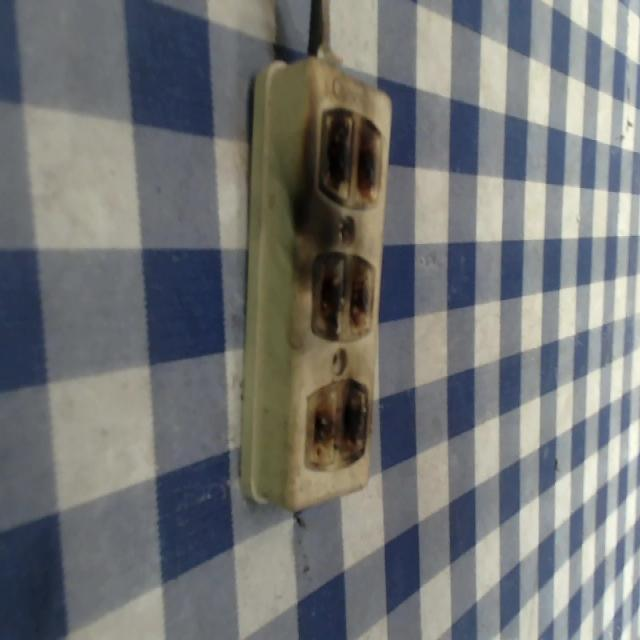-: (315, 94, 384, 210), (301, 373, 371, 471), (307, 244, 376, 341)
